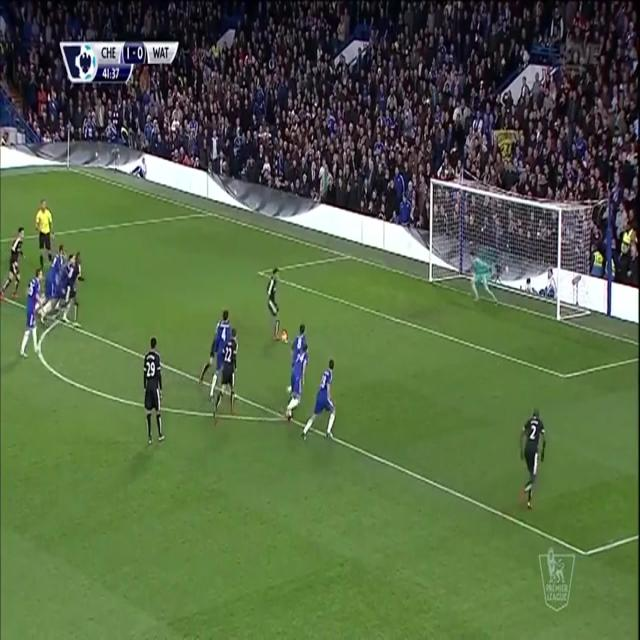Ball: (278, 326, 289, 346)
Goalkeeper: (466, 250, 496, 304)
Player: (516, 403, 549, 511), (301, 358, 339, 439), (212, 326, 240, 425), (142, 334, 164, 447), (19, 271, 43, 360), (0, 226, 28, 300), (207, 309, 230, 399), (284, 342, 308, 425), (60, 250, 84, 326), (265, 263, 281, 344), (290, 320, 309, 356)
Referee: (34, 199, 57, 267)
